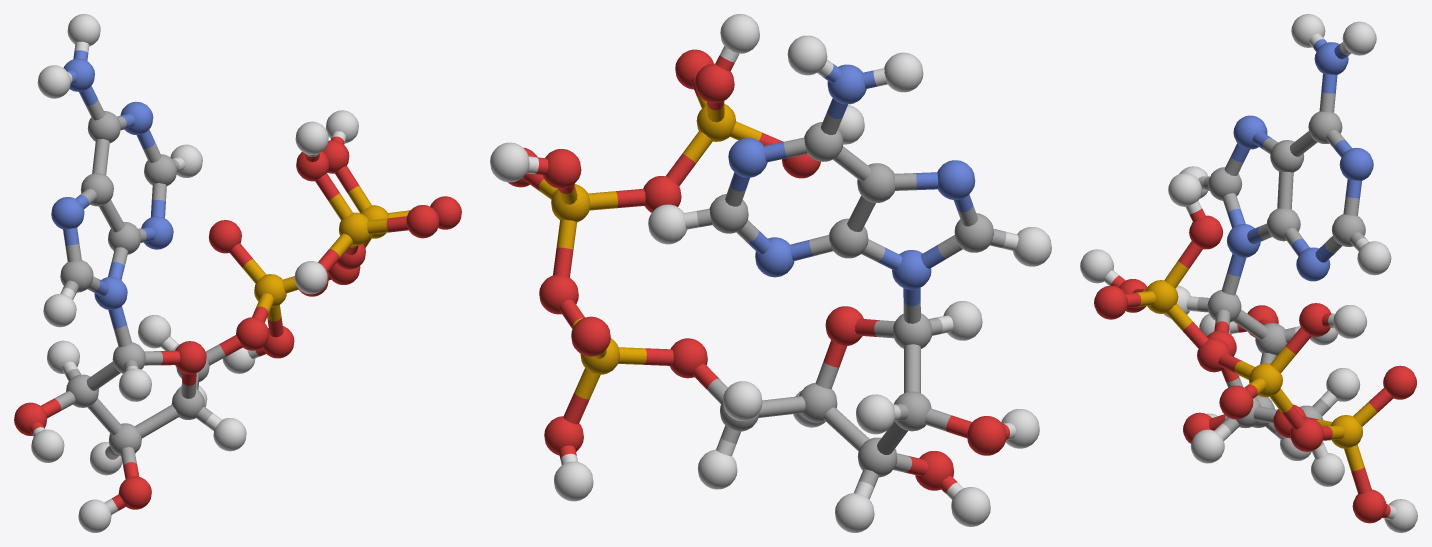
The model's file is atp-bas.glb.
3 renders of one model, left to right at view 1: azimuth 30°, elevation 25°; view 2: azimuth 150°, elevation 25°; view 3: azimuth 270°, elevation 25°, orthographic. The views are drawn at different scales.
Parts seen in each view (by area): view 1: atp-bas; view 2: atp-bas; view 3: atp-bas.
Part boxes in pixels (x1=…): atp-bas: x1=14, y1=14, x2=461, y2=532; atp-bas: x1=490, y1=14, x2=1051, y2=532; atp-bas: x1=1080, y1=14, x2=1417, y2=532.
Bounding box in the file's own units: 10.53 × 10.29 × 6.94.
